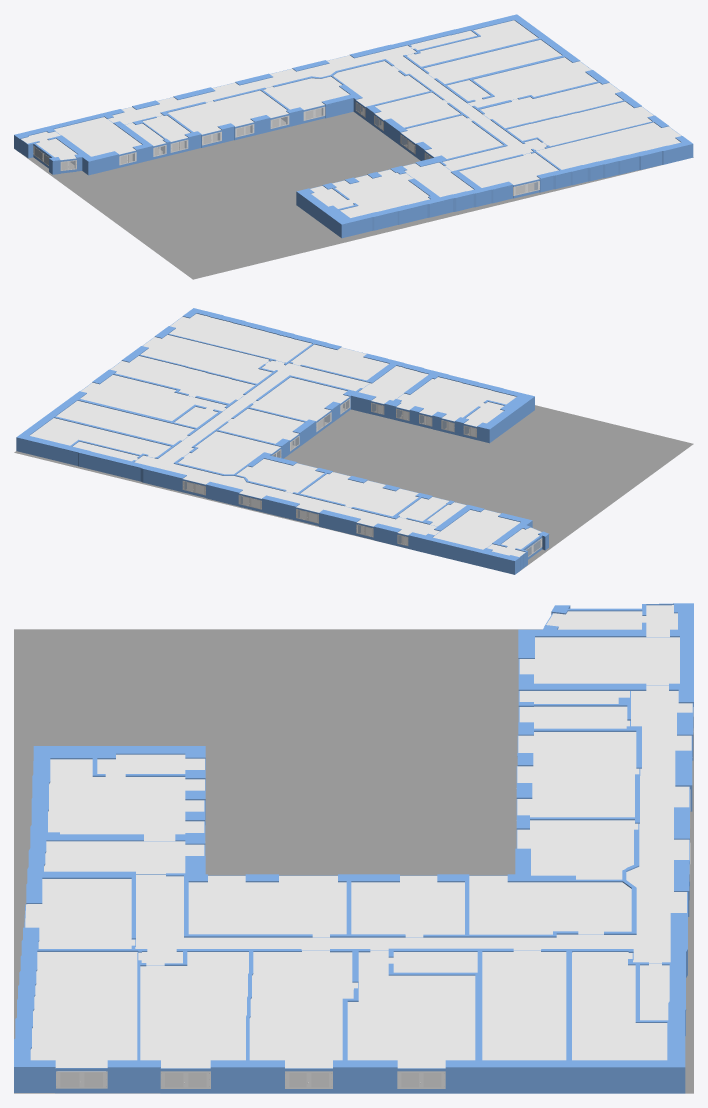
Rendered from 4thfloor.obj.
The picture shows the model from 3 angles, top to bottom: view 1: azimuth 30°, elevation 25°; view 2: azimuth 150°, elevation 25°; view 3: azimuth 270°, elevation 25°; orthographic projection. The views are drawn at different scales.
Visible parts, largest first — view 1: ground_1, room_487_2843, room_484_2837, room_480_2829, room_482_2833, room_479_2827, room_477_2823, room_470_2809, room_475_2819, room_478_2825, room_472_2813, room_474_2817 (+24 smaller); view 2: ground_1, room_487_2843, room_484_2837, room_482_2833, room_480_2829, room_479_2827, room_477_2823, room_470_2809, room_475_2819, room_478_2825, room_472_2813, room_474_2817 (+29 smaller); view 3: ground_1, room_487_2843, room_484_2837, room_480_2829, room_482_2833, room_479_2827, room_477_2823, room_470_2809, room_475_2819, room_478_2825, room_472_2813, room_474_2817 (+33 smaller).
Part boxes in pixels (x1,y1,x2,y2): ground_1: (20,111,693,279); room_487_2843: (108,45,546,171); room_484_2837: (447,57,597,107); room_480_2829: (536,122,680,169); room_482_2833: (310,169,429,217); room_479_2827: (507,101,653,146); room_477_2823: (480,83,622,128); room_470_2809: (168,90,288,134); room_475_2819: (424,39,561,83); room_478_2825: (401,115,503,158); room_472_2813: (333,61,429,106); room_474_2817: (407,20,538,66); ground_1: (14,405,693,570); room_487_2843: (134,360,439,535); room_484_2837: (80,375,226,427); room_482_2833: (396,377,516,426); room_480_2829: (169,313,311,362); room_479_2827: (141,334,272,383); room_477_2823: (110,356,254,403); room_470_2809: (300,472,418,516); room_475_2819: (56,400,194,444); room_478_2825: (250,377,349,421); room_472_2813: (178,431,280,474); room_474_2817: (29,418,170,457); ground_1: (14,629,693,1093); room_487_2843: (135,685,692,965); room_484_2837: (347,950,477,1068); room_480_2829: (30,952,137,1067); room_482_2833: (48,754,204,840); room_479_2827: (140,952,248,1068); room_477_2823: (249,950,357,1068); room_470_2809: (517,732,639,817); room_475_2819: (482,950,566,1060); room_478_2825: (188,876,346,937); room_472_2813: (469,876,631,934); room_474_2817: (572,952,667,1060).
Bounding box in the file's own units: 9965 × 262 × 6170.
